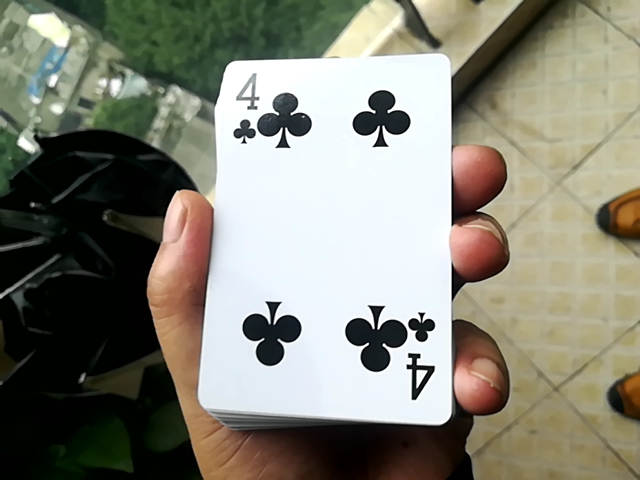mh 4: (195, 40, 454, 427)
